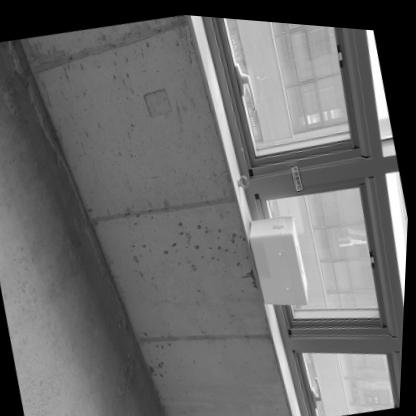DDL: (243, 205, 317, 311)
